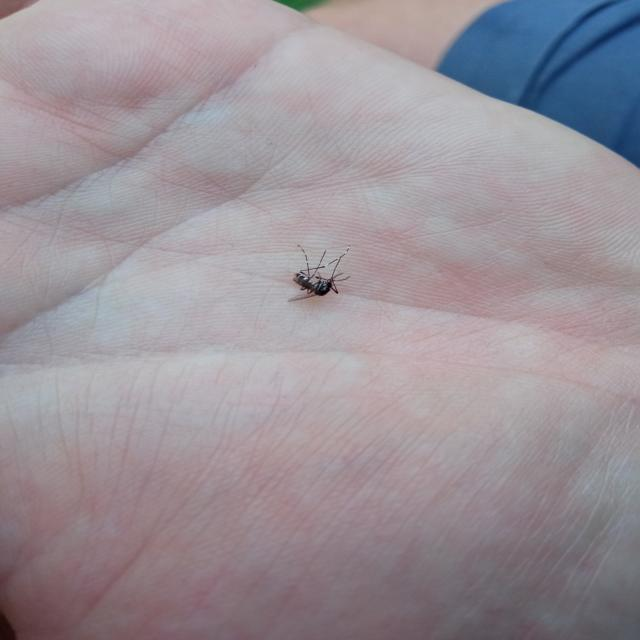albopictus: (277, 237, 360, 307)
